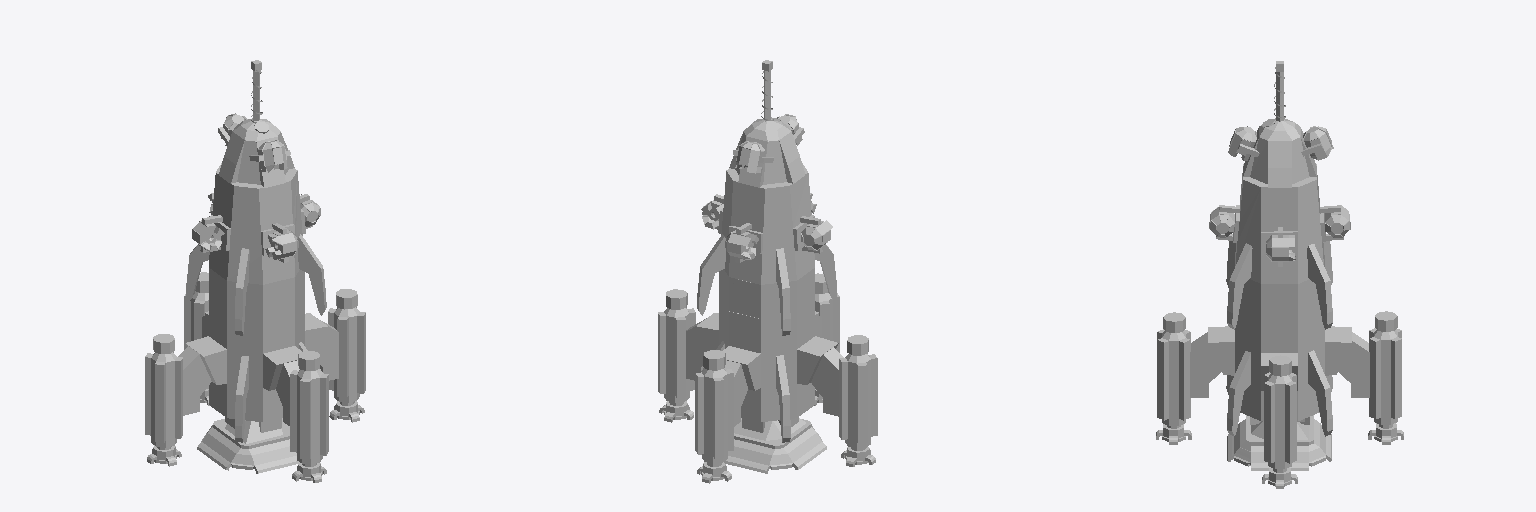
Rendered from rocket_t7.obj.
3 renders of one model, left to right at view 1: azimuth 30°, elevation 25°; view 2: azimuth 150°, elevation 25°; view 3: azimuth 270°, elevation 25°, orthographic.
Parts seen in each view (by area): view 1: Body_Rocket, Nozzle, RocketEngine, RocketEngine003, RocketEngine001, Rocket_stabilizer2, CorrectedWind005, RocketEngine002, CorrectedWind008, Cylinder005, CorrectedWind4, Rocket_stabilizer1 (+4 smaller); view 2: Body_Rocket, Nozzle, RocketEngine002, RocketEngine003, RocketEngine001, Rocket_stabilizer2, CorrectedWind006, RocketEngine, GlassWindow, CorrectedWind007, CorrectedWind3, Cylinder001 (+6 smaller); view 3: Body_Rocket, RocketEngine, RocketEngine001, Nozzle, RocketEngine002, Rocket_stabilizer3, Rocket_stabilizer4, CorrectedWind006, CorrectedWind2, CorrectedWind005, CorrectedWind1, Cylinder001 (+4 smaller).
Boxes of the visible parts, box(x1,y1,x2,y2) form: Body_Rocket: box(185, 118, 327, 432); Nozzle: box(197, 418, 299, 473); RocketEngine: box(290, 369, 328, 464); RocketEngine003: box(145, 352, 182, 447); RocketEngine001: box(328, 307, 365, 402); Rocket_stabilizer2: box(178, 346, 211, 415); CorrectedWind005: box(297, 234, 326, 315); RocketEngine002: box(184, 291, 208, 349); CorrectedWind008: box(235, 248, 249, 335); Cylinder005: box(265, 223, 298, 262); CorrectedWind4: box(235, 356, 248, 442); Rocket_stabilizer1: box(317, 318, 338, 380); Body_Rocket: box(696, 119, 838, 432); Nozzle: box(724, 418, 826, 473); RocketEngine002: box(695, 369, 733, 463); RocketEngine003: box(839, 354, 877, 448); RocketEngine001: box(658, 308, 695, 402); Rocket_stabilizer2: box(811, 347, 843, 416); CorrectedWind006: box(697, 234, 725, 315); RocketEngine: box(815, 293, 839, 352); GlassWindow: box(729, 280, 760, 316); CorrectedWind007: box(776, 248, 790, 335); CorrectedWind3: box(776, 355, 790, 442); Cylinder001: box(725, 223, 758, 262); Body_Rocket: box(1208, 119, 1351, 424); RocketEngine: box(1157, 329, 1190, 425); RocketEngine001: box(1264, 372, 1296, 468); Nozzle: box(1227, 415, 1331, 470); RocketEngine002: box(1369, 328, 1401, 424); Rocket_stabilizer3: box(1338, 332, 1369, 397); Rocket_stabilizer4: box(1190, 332, 1221, 397); CorrectedWind006: box(1307, 244, 1332, 329); CorrectedWind2: box(1308, 350, 1332, 436); CorrectedWind005: box(1227, 243, 1252, 329); CorrectedWind1: box(1227, 351, 1250, 435); Cylinder001: box(1320, 205, 1350, 240).
Bounding box in the file's own units: 5.93 × 10.32 × 5.98.